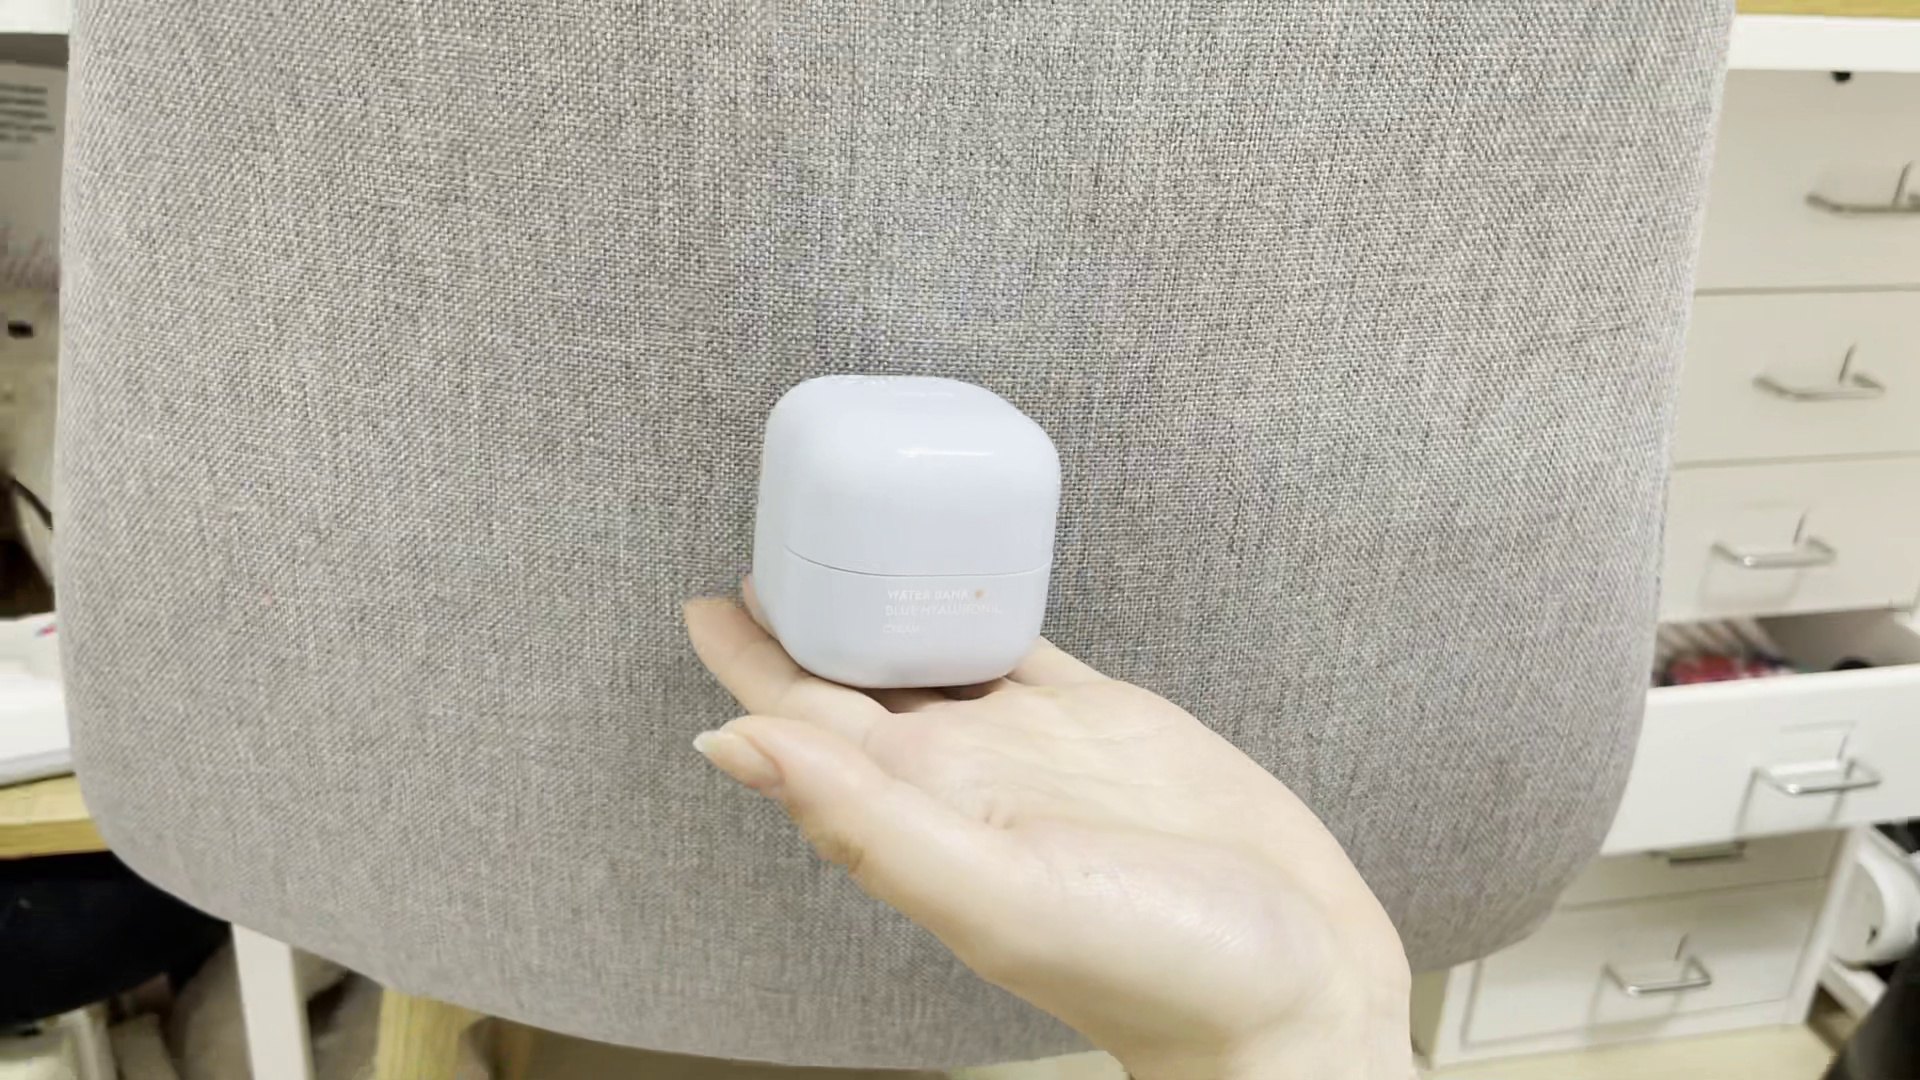cream: (754, 375, 1062, 686)
